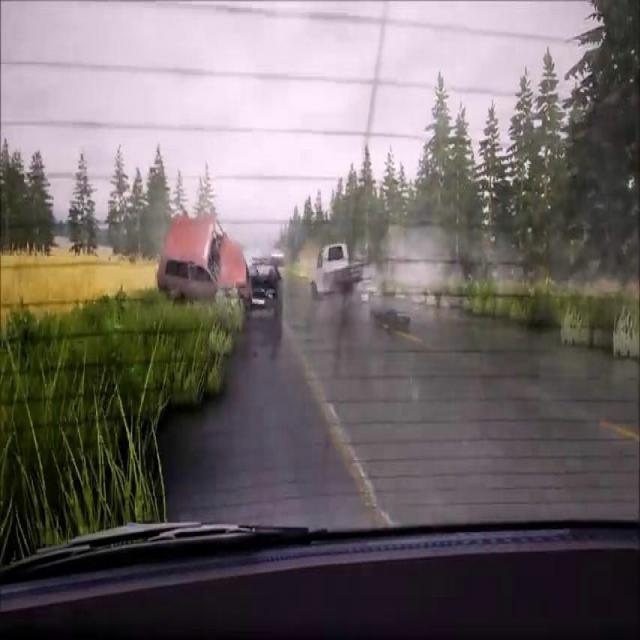severe: (156, 208, 286, 328)
